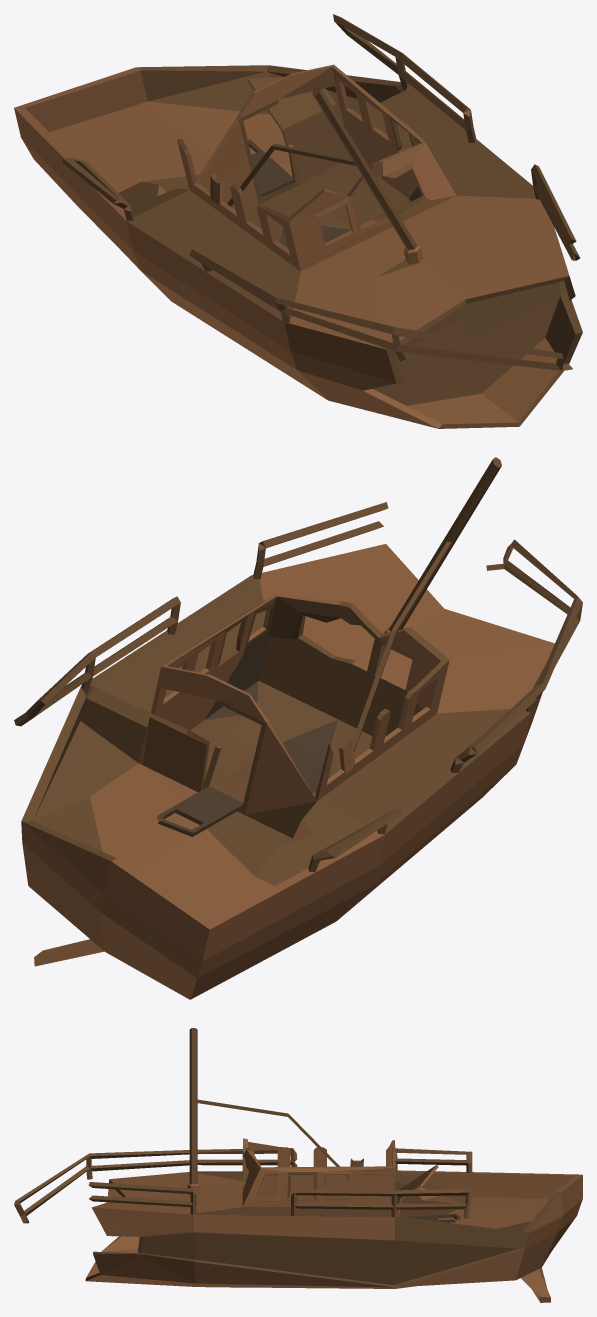
File: boat-sail-apocalypse.fbx
3 renders of one model, top to bottom at view 1: azimuth 30°, elevation 25°; view 2: azimuth 150°, elevation 25°; view 3: azimuth 270°, elevation 25°, orthographic. The views are drawn at different scales.
Visible parts, largest first — view 1: boat-sail-apocalypse; view 2: boat-sail-apocalypse; view 3: boat-sail-apocalypse.
Part boxes in pixels (<box>): boat-sail-apocalypse: <box>14,14,582,428</box>; boat-sail-apocalypse: <box>14,457,582,999</box>; boat-sail-apocalypse: <box>14,1028,582,1302</box>.
Bounding box in the file's own units: 7.96 × 7.99 × 18.71.
